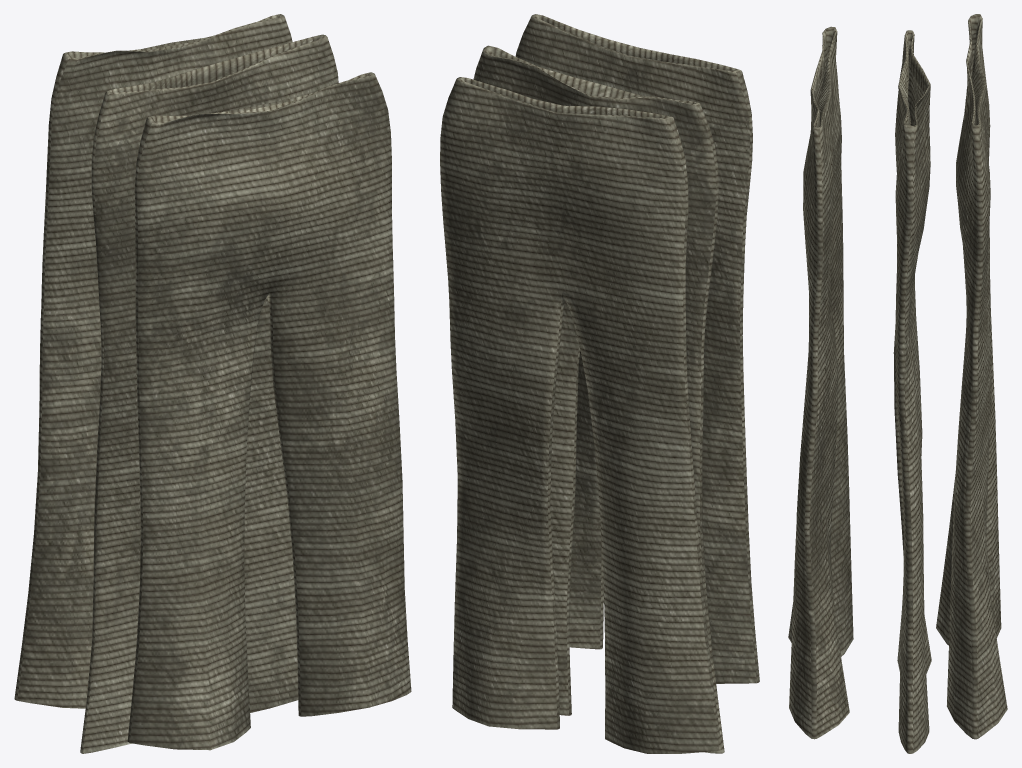
Rendered from yifu12kuzi_03.fbx.
3 views of the same model, side by side, from view 1: azimuth 30°, elevation 25°; view 2: azimuth 150°, elevation 25°; view 3: azimuth 270°, elevation 25° (orthographic). The views are drawn at different scales.
Visible parts, largest first — view 1: yifu12kuzi_03; view 2: yifu12kuzi_03; view 3: yifu12kuzi_03.
Part boxes in pixels (bbox=[...]): yifu12kuzi_03: bbox=[14, 14, 411, 753]; yifu12kuzi_03: bbox=[440, 14, 759, 753]; yifu12kuzi_03: bbox=[788, 14, 1007, 753].
Bounding box in the file's own units: 49.33 × 101 × 31.7.
